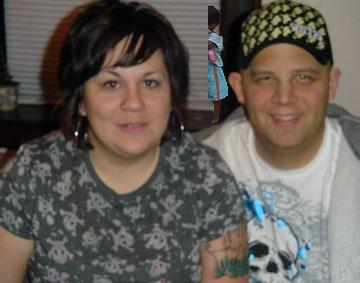tampered: (209, 7, 228, 123)
